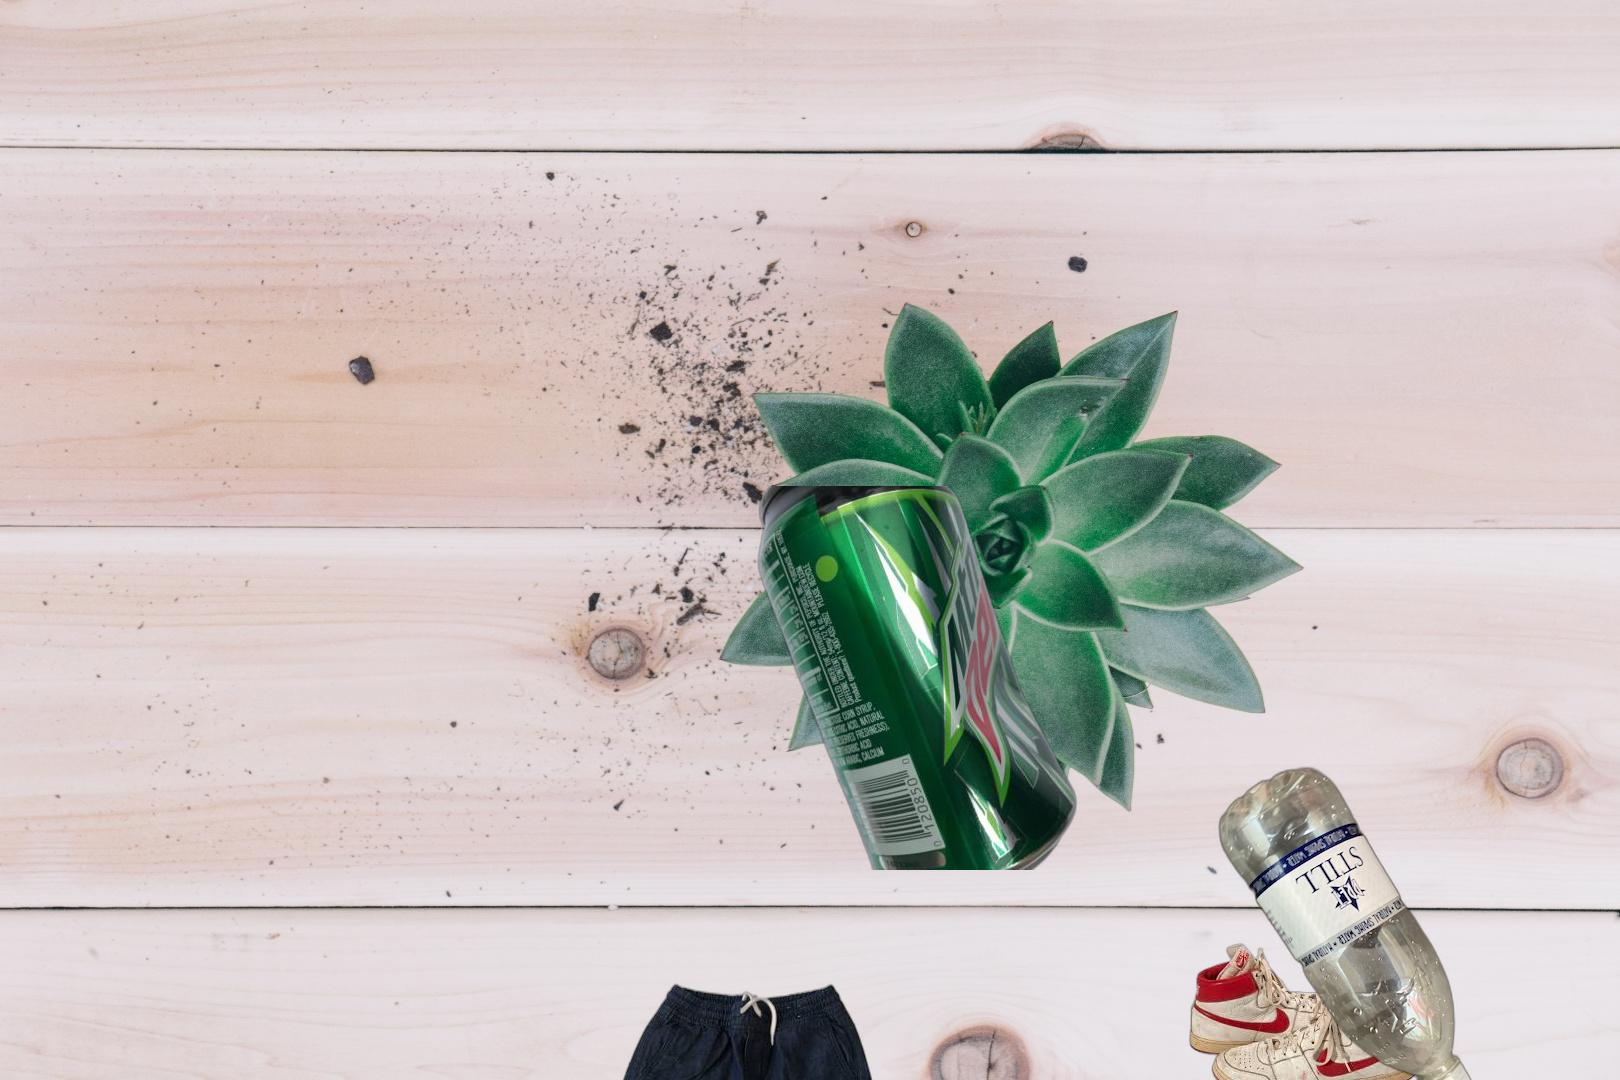clothes: (558, 979, 908, 1080)
metal-cans: (753, 486, 1080, 870)
plastic-bottles: (1215, 761, 1481, 1080)
shoes: (1188, 941, 1420, 1080)
